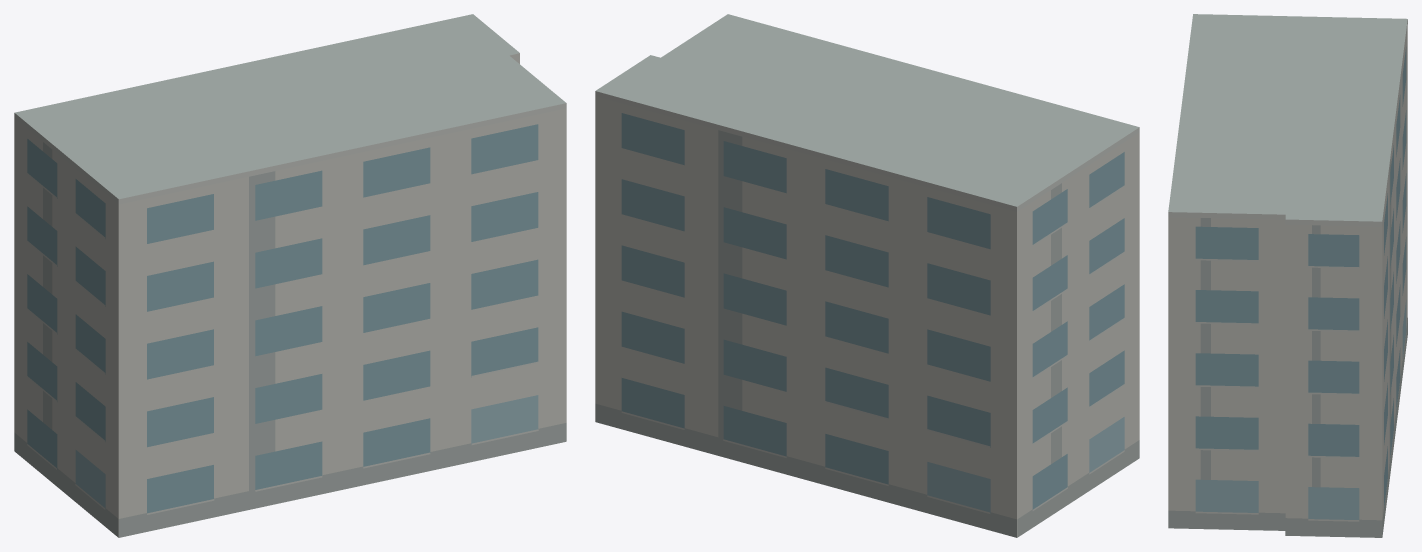
Rendered from survey-upis-32762654.glb.
3 views of the same model, side by side, from view 1: azimuth 30°, elevation 25°; view 2: azimuth 150°, elevation 25°; view 3: azimuth 270°, elevation 25° (orthographic). The views are drawn at different scales.
Visible parts, largest first — view 1: survey-upis-32762654.tmp; view 2: survey-upis-32762654.tmp; view 3: survey-upis-32762654.tmp.
Part boxes in pixels (x1,y1,x2,y2): survey-upis-32762654.tmp: (14,14,566,537); survey-upis-32762654.tmp: (595,14,1139,537); survey-upis-32762654.tmp: (1168,14,1407,537).
Bounding box in the file's own units: 21.48 × 15.25 × 10.48.
